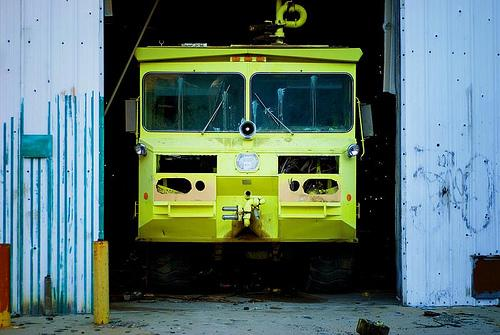truck: (124, 40, 376, 297)
